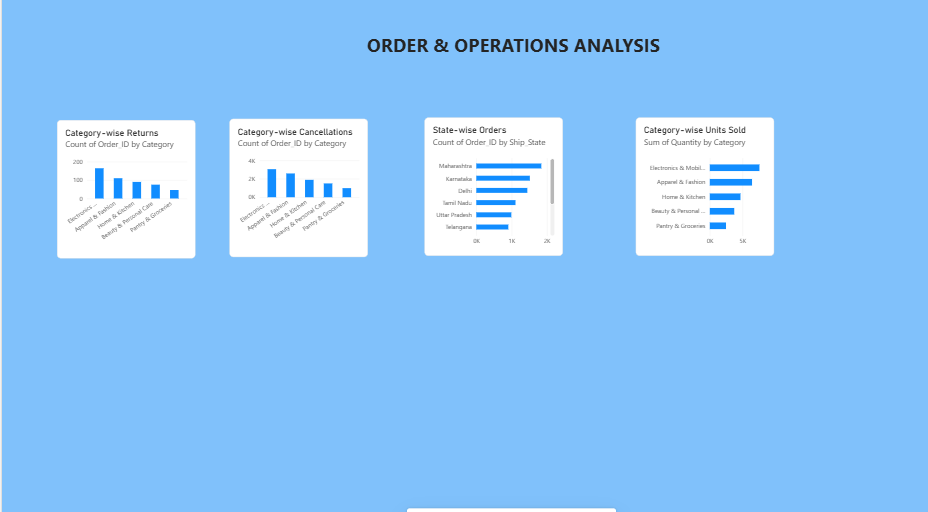

The dashboard page shown, as its layout file describes it:
{"tool":"powerbi","page":{"name":"Order & Operations Analysis","canvas":[1920,1080],"ordinal":1},"visuals":[{"type":"clusteredColumnChart","title":"Category-wise Returns","fields":{"Category":["Sheet1.Category"],"Y":["CountNonNull(Sheet1.Order_ID)"]},"box":[32.9,397.1,280,280],"z":0},{"type":"clusteredColumnChart","title":"Category-wise Cancellations","fields":{"Category":["Sheet1.Category"],"Y":["CountNonNull(Sheet1.Order_ID)"]},"box":[460.3,397.1,280,280],"z":1},{"type":"clusteredBarChart","title":"State-wise Orders","fields":{"Category":["Sheet1.Ship_State"],"Y":["CountNonNull(Sheet1.Order_ID)"]},"box":[887.7,394.5,280,280],"z":2},{"type":"textbox","box":[10,870,280,210],"z":3},{"type":"textbox","box":[32.9,86,1861.4,123.9],"z":4},{"type":"textbox","box":[402.1,0,1426.4,263],"z":5},{"type":"clusteredBarChart","title":"Category-wise Units Sold","fields":{"Category":["Sheet1.Category"],"Y":["Sum(Sheet1.Quantity)"]},"box":[1302.4,376.8,280,280],"z":6}]}

Visuals, with their boxes in screenshot pixels (x1, y1, x2, y2), scaled from the page's 1920x1080 canvas onto the 928x512 screenshot:
"Category-wise Returns" clusteredColumnChart: Rect(16, 188, 151, 321)
"Category-wise Cancellations" clusteredColumnChart: Rect(222, 188, 358, 321)
"State-wise Orders" clusteredBarChart: Rect(429, 187, 564, 320)
textbox: Rect(5, 412, 140, 511)
textbox: Rect(16, 41, 916, 100)
textbox: Rect(194, 0, 884, 125)
"Category-wise Units Sold" clusteredBarChart: Rect(629, 179, 765, 311)
